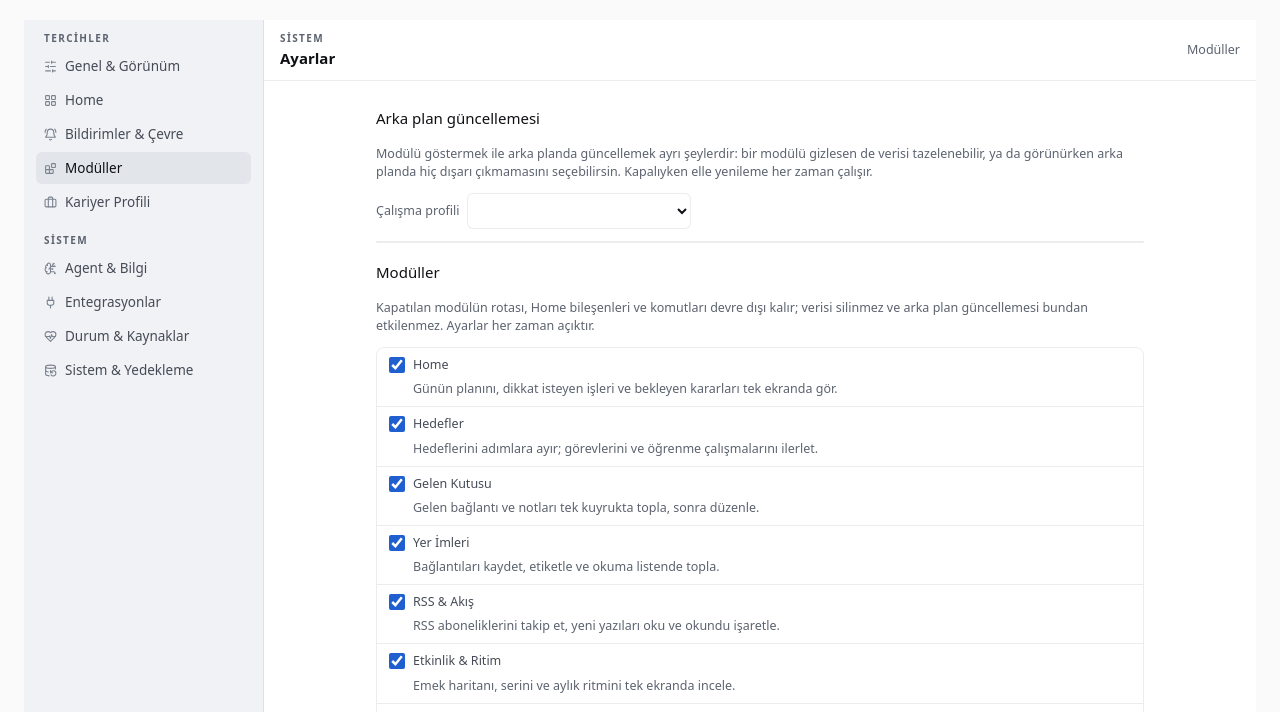
Test case: SettingsPage sekmeleri › sekmeyi URL hash'inden okur ve rail tiklamasiyla hash'i gunceller
This screenshot has width=1280, height=712.
Check: the heading "Ayarlar" is shown, box [280,48,335,68]
Check: the text "Modüller" below "Tercihler" is shown, box [65,159,122,177]
Click the button "Kariyer Profili": (144, 202) [36,186,251,218]
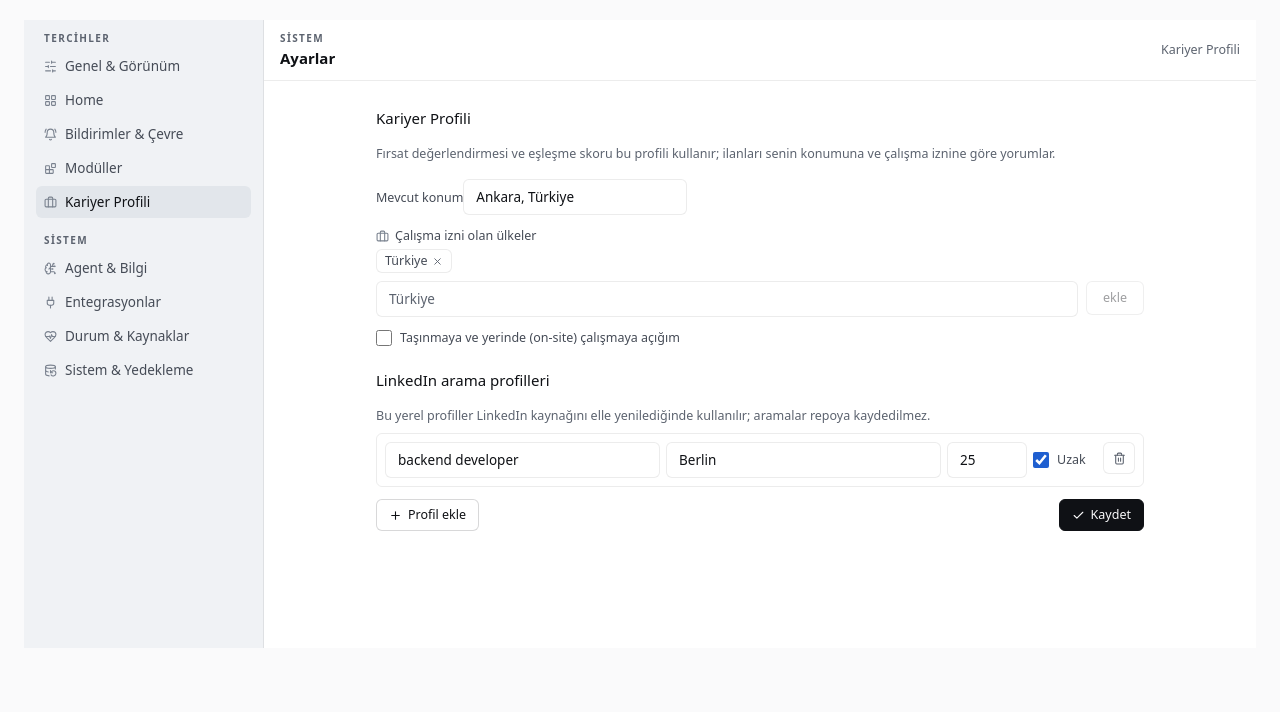
Check: the heading "Kariyer Profili" is shown, box [376,108,471,128]
